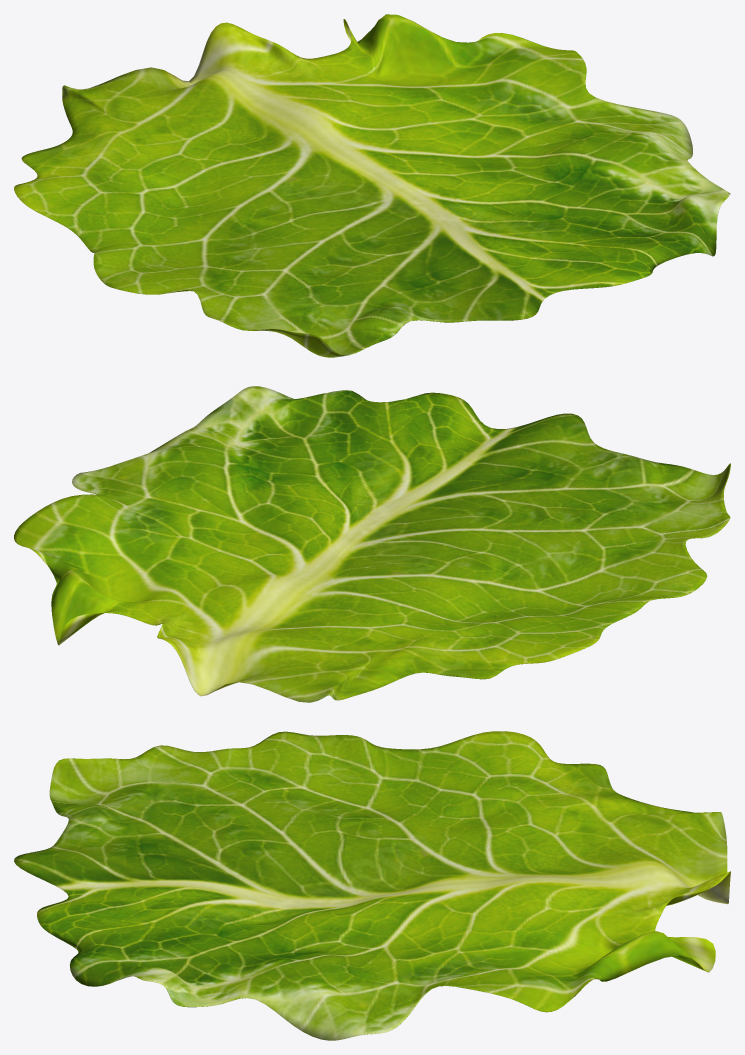
File: insalata_foglia_non_usare.fbx
The picture shows the model from 3 angles, top to bottom: view 1: azimuth 30°, elevation 25°; view 2: azimuth 150°, elevation 25°; view 3: azimuth 270°, elevation 25°; orthographic projection. The views are drawn at different scales.
Parts seen in each view (by area): view 1: Insalata; view 2: Insalata; view 3: Insalata.
Part boxes in pixels (x1,y1,x2,y2): Insalata: (14, 14, 730, 357); Insalata: (14, 386, 730, 702); Insalata: (14, 731, 730, 1040).
Bounding box in the file's own units: 191 × 15.82 × 197.
